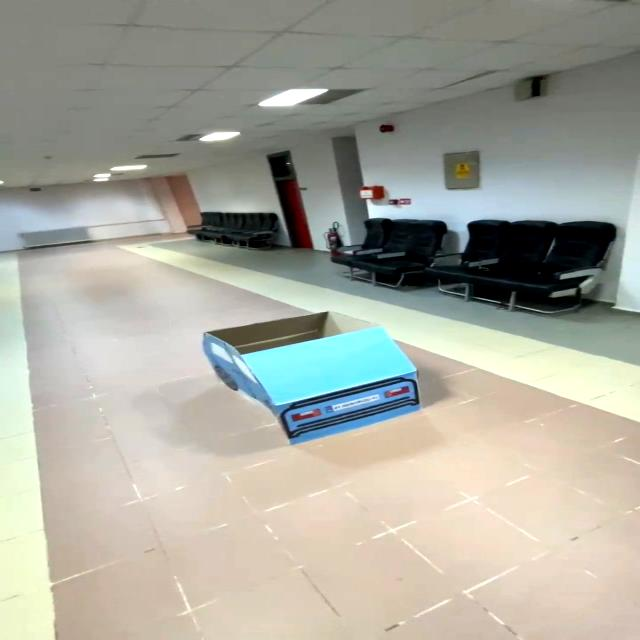blue_car: (178, 296, 442, 459)
